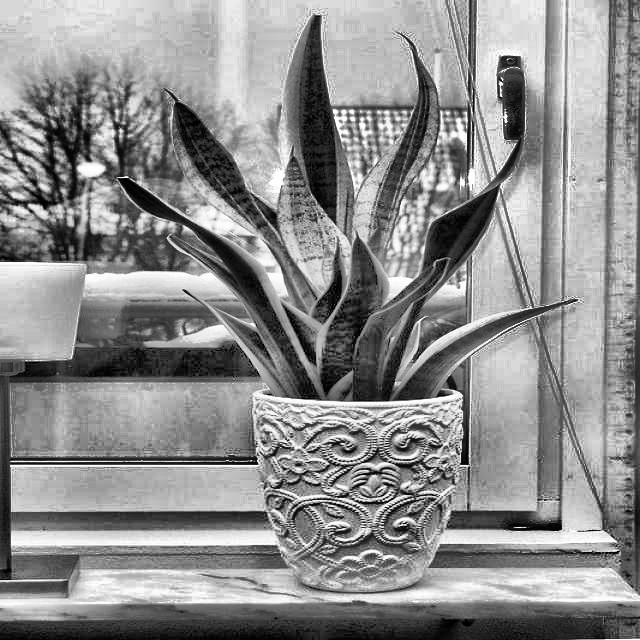plants: (110, 11, 584, 404)
